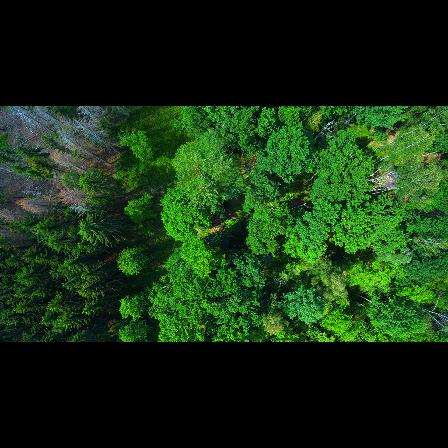Dead: (64, 134, 110, 165), (57, 114, 100, 144), (79, 121, 116, 150), (416, 300, 448, 333), (18, 113, 54, 135), (365, 168, 402, 186), (21, 186, 63, 201), (69, 203, 97, 217), (80, 106, 101, 124), (18, 106, 47, 119), (0, 210, 30, 221), (0, 164, 16, 178)
